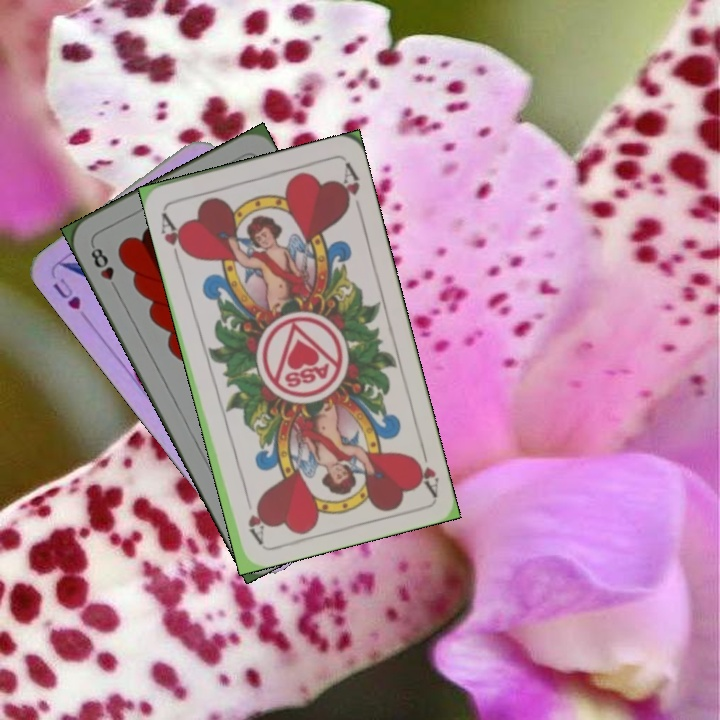H8: (86, 240, 121, 295)
HA: (407, 439, 442, 497), (156, 208, 191, 264)
HU: (49, 273, 84, 312)
